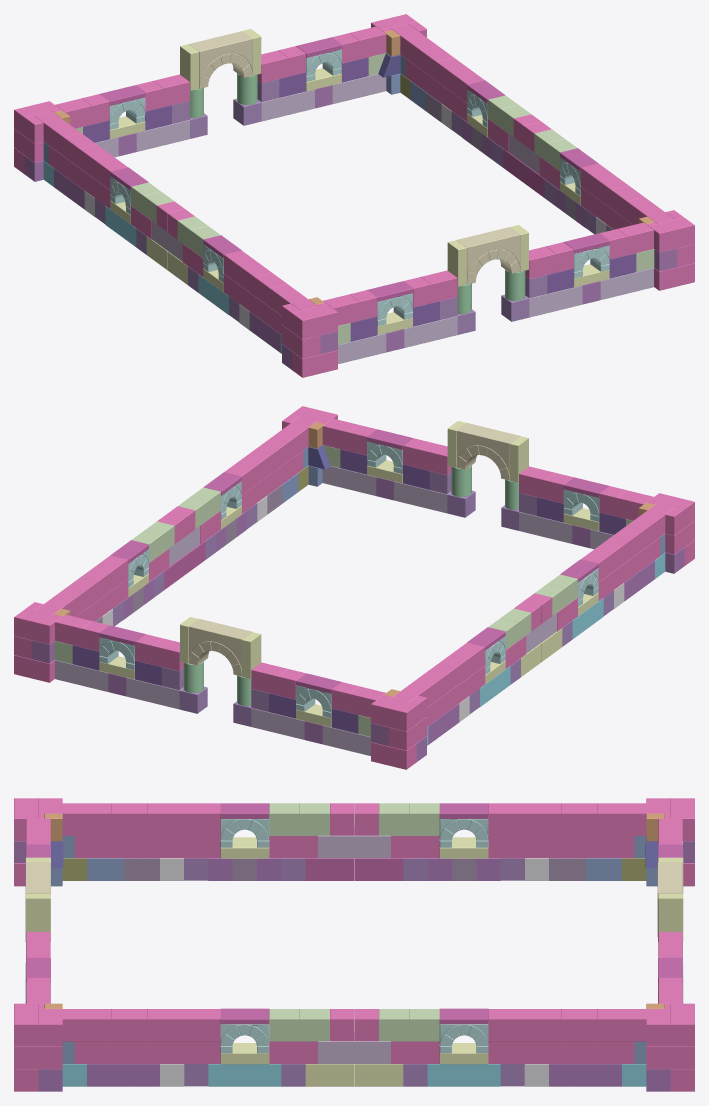
File: walls.glb
3 renders of one model, top to bottom at view 1: azimuth 30°, elevation 25°; view 2: azimuth 150°, elevation 25°; view 3: azimuth 270°, elevation 25°, orthographic. The views are drawn at different scales.
Parts seen in each view (by area): view 1: Fill (×44); view 2: Fill (×44); view 3: Fill (×60).
Part boxes in pixels (box(x1,y1,x2,y2)): Fill (×44): box(14, 14, 694, 377); Fill (×44): box(14, 406, 694, 769); Fill (×60): box(14, 798, 694, 1091).
Size of what is drawn, in the model's own units: 132 by 27.52 by 168.
